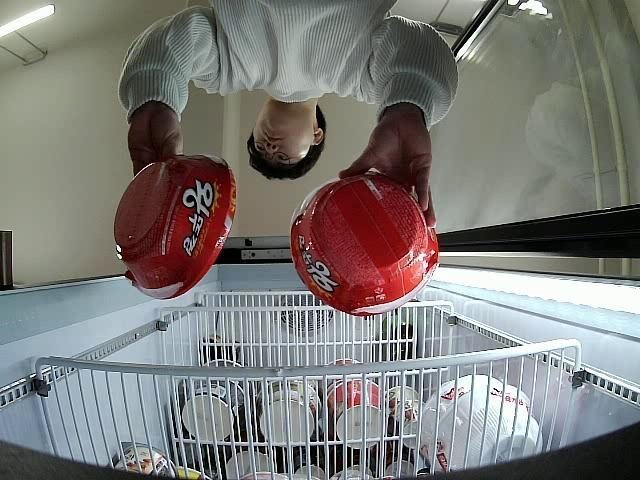10_wangTtukkeong: (292, 172, 442, 316), (115, 154, 238, 298)
